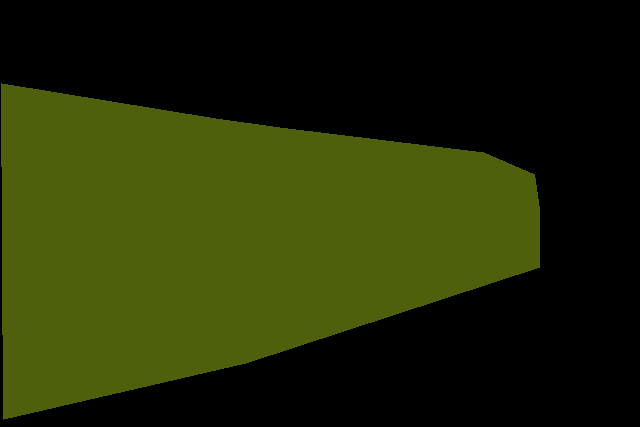Train: (1, 83, 539, 419)
